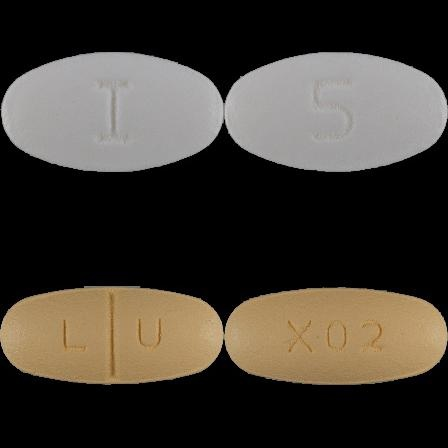63187-357: (0, 0, 224, 224)
